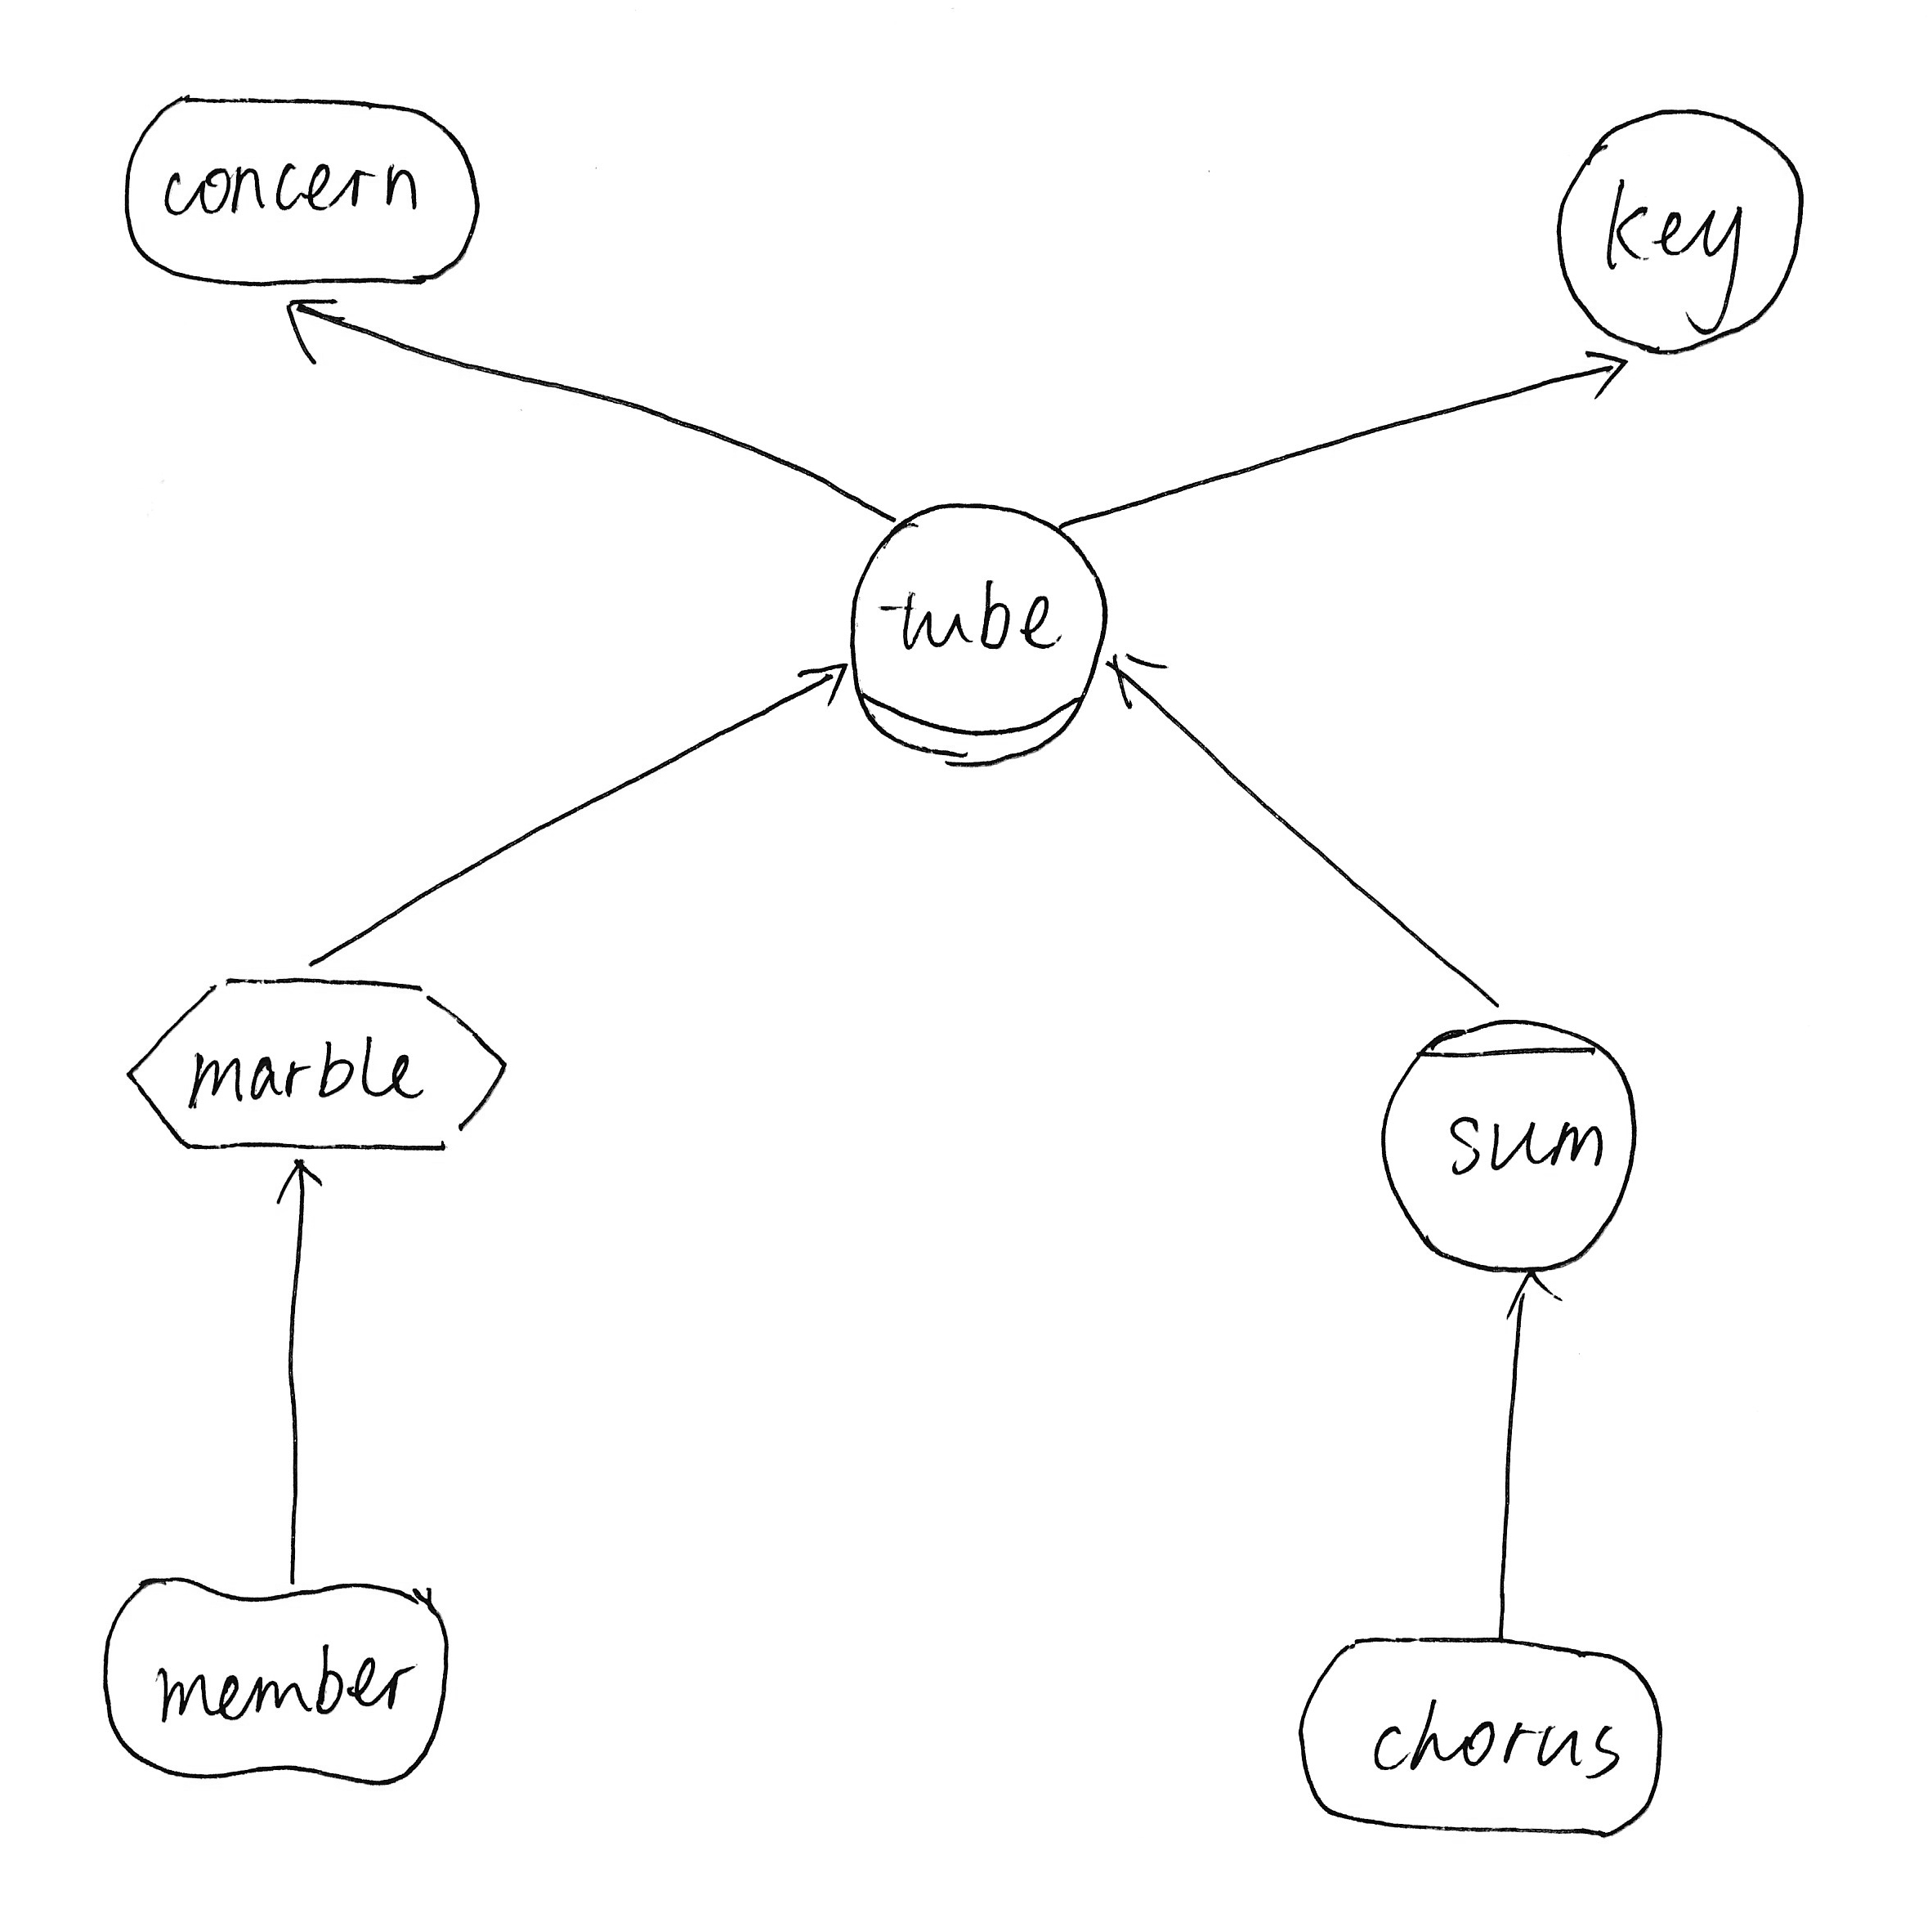actor: (1541, 92, 1821, 380)
agent: (1364, 1005, 1654, 1297)
arrow: (1093, 634, 1177, 736), (267, 285, 354, 375), (1494, 1258, 1570, 1348), (1561, 338, 1643, 415), (255, 1148, 341, 1214), (788, 651, 857, 716)
goal: (1283, 1619, 1694, 1860), (102, 74, 496, 308)
quality: (86, 1549, 470, 1811)
role: (822, 482, 1126, 780)
task: (102, 942, 519, 1170)
